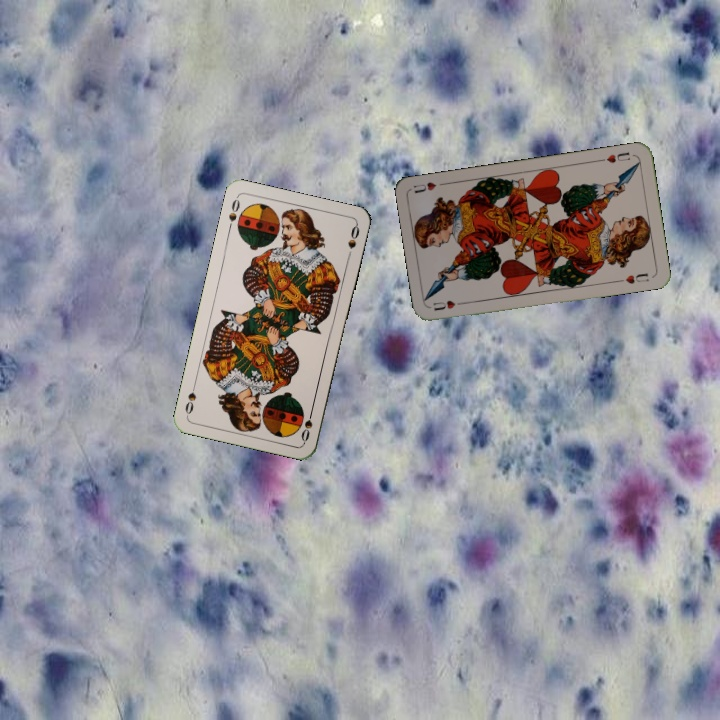HU: (596, 148, 633, 166), (429, 296, 468, 313)
SO: (297, 404, 316, 444), (224, 193, 242, 233)
